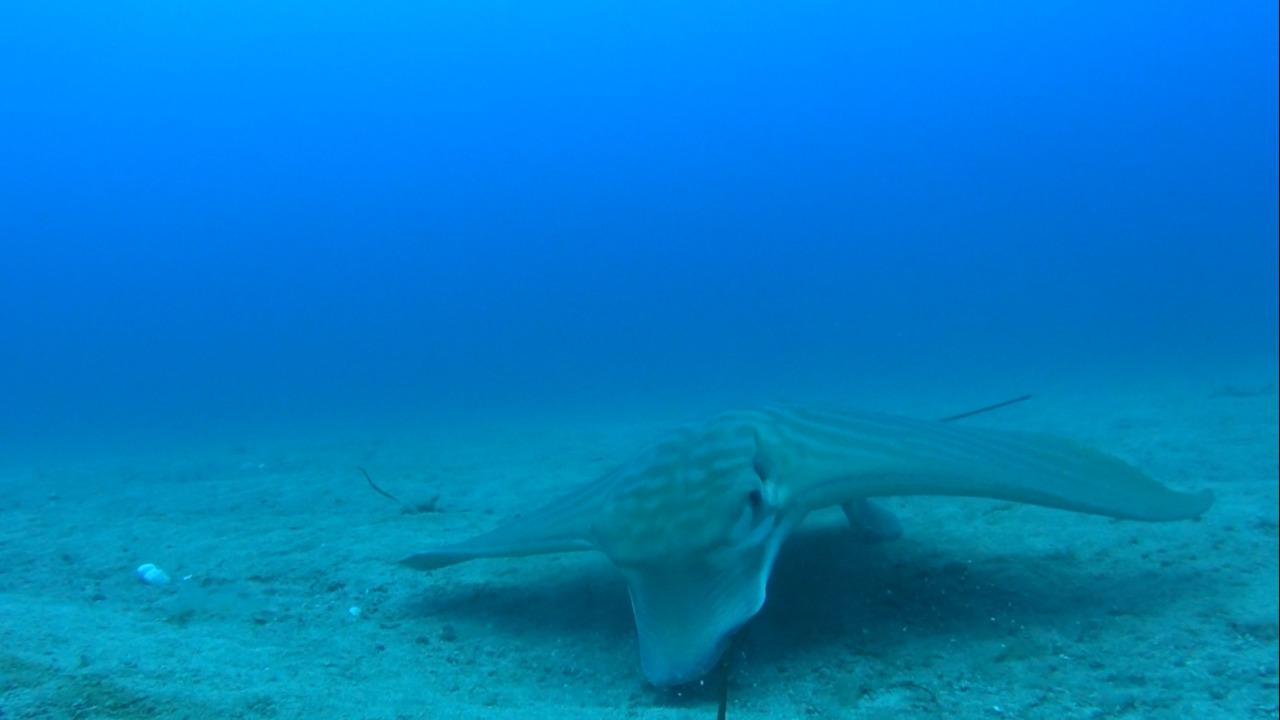myliobatis: (394, 387, 1226, 695)
